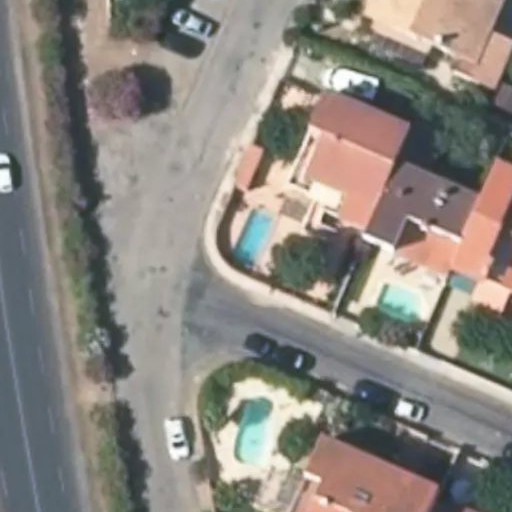pool: (228, 207, 275, 270), (235, 398, 274, 465), (375, 282, 426, 327)
